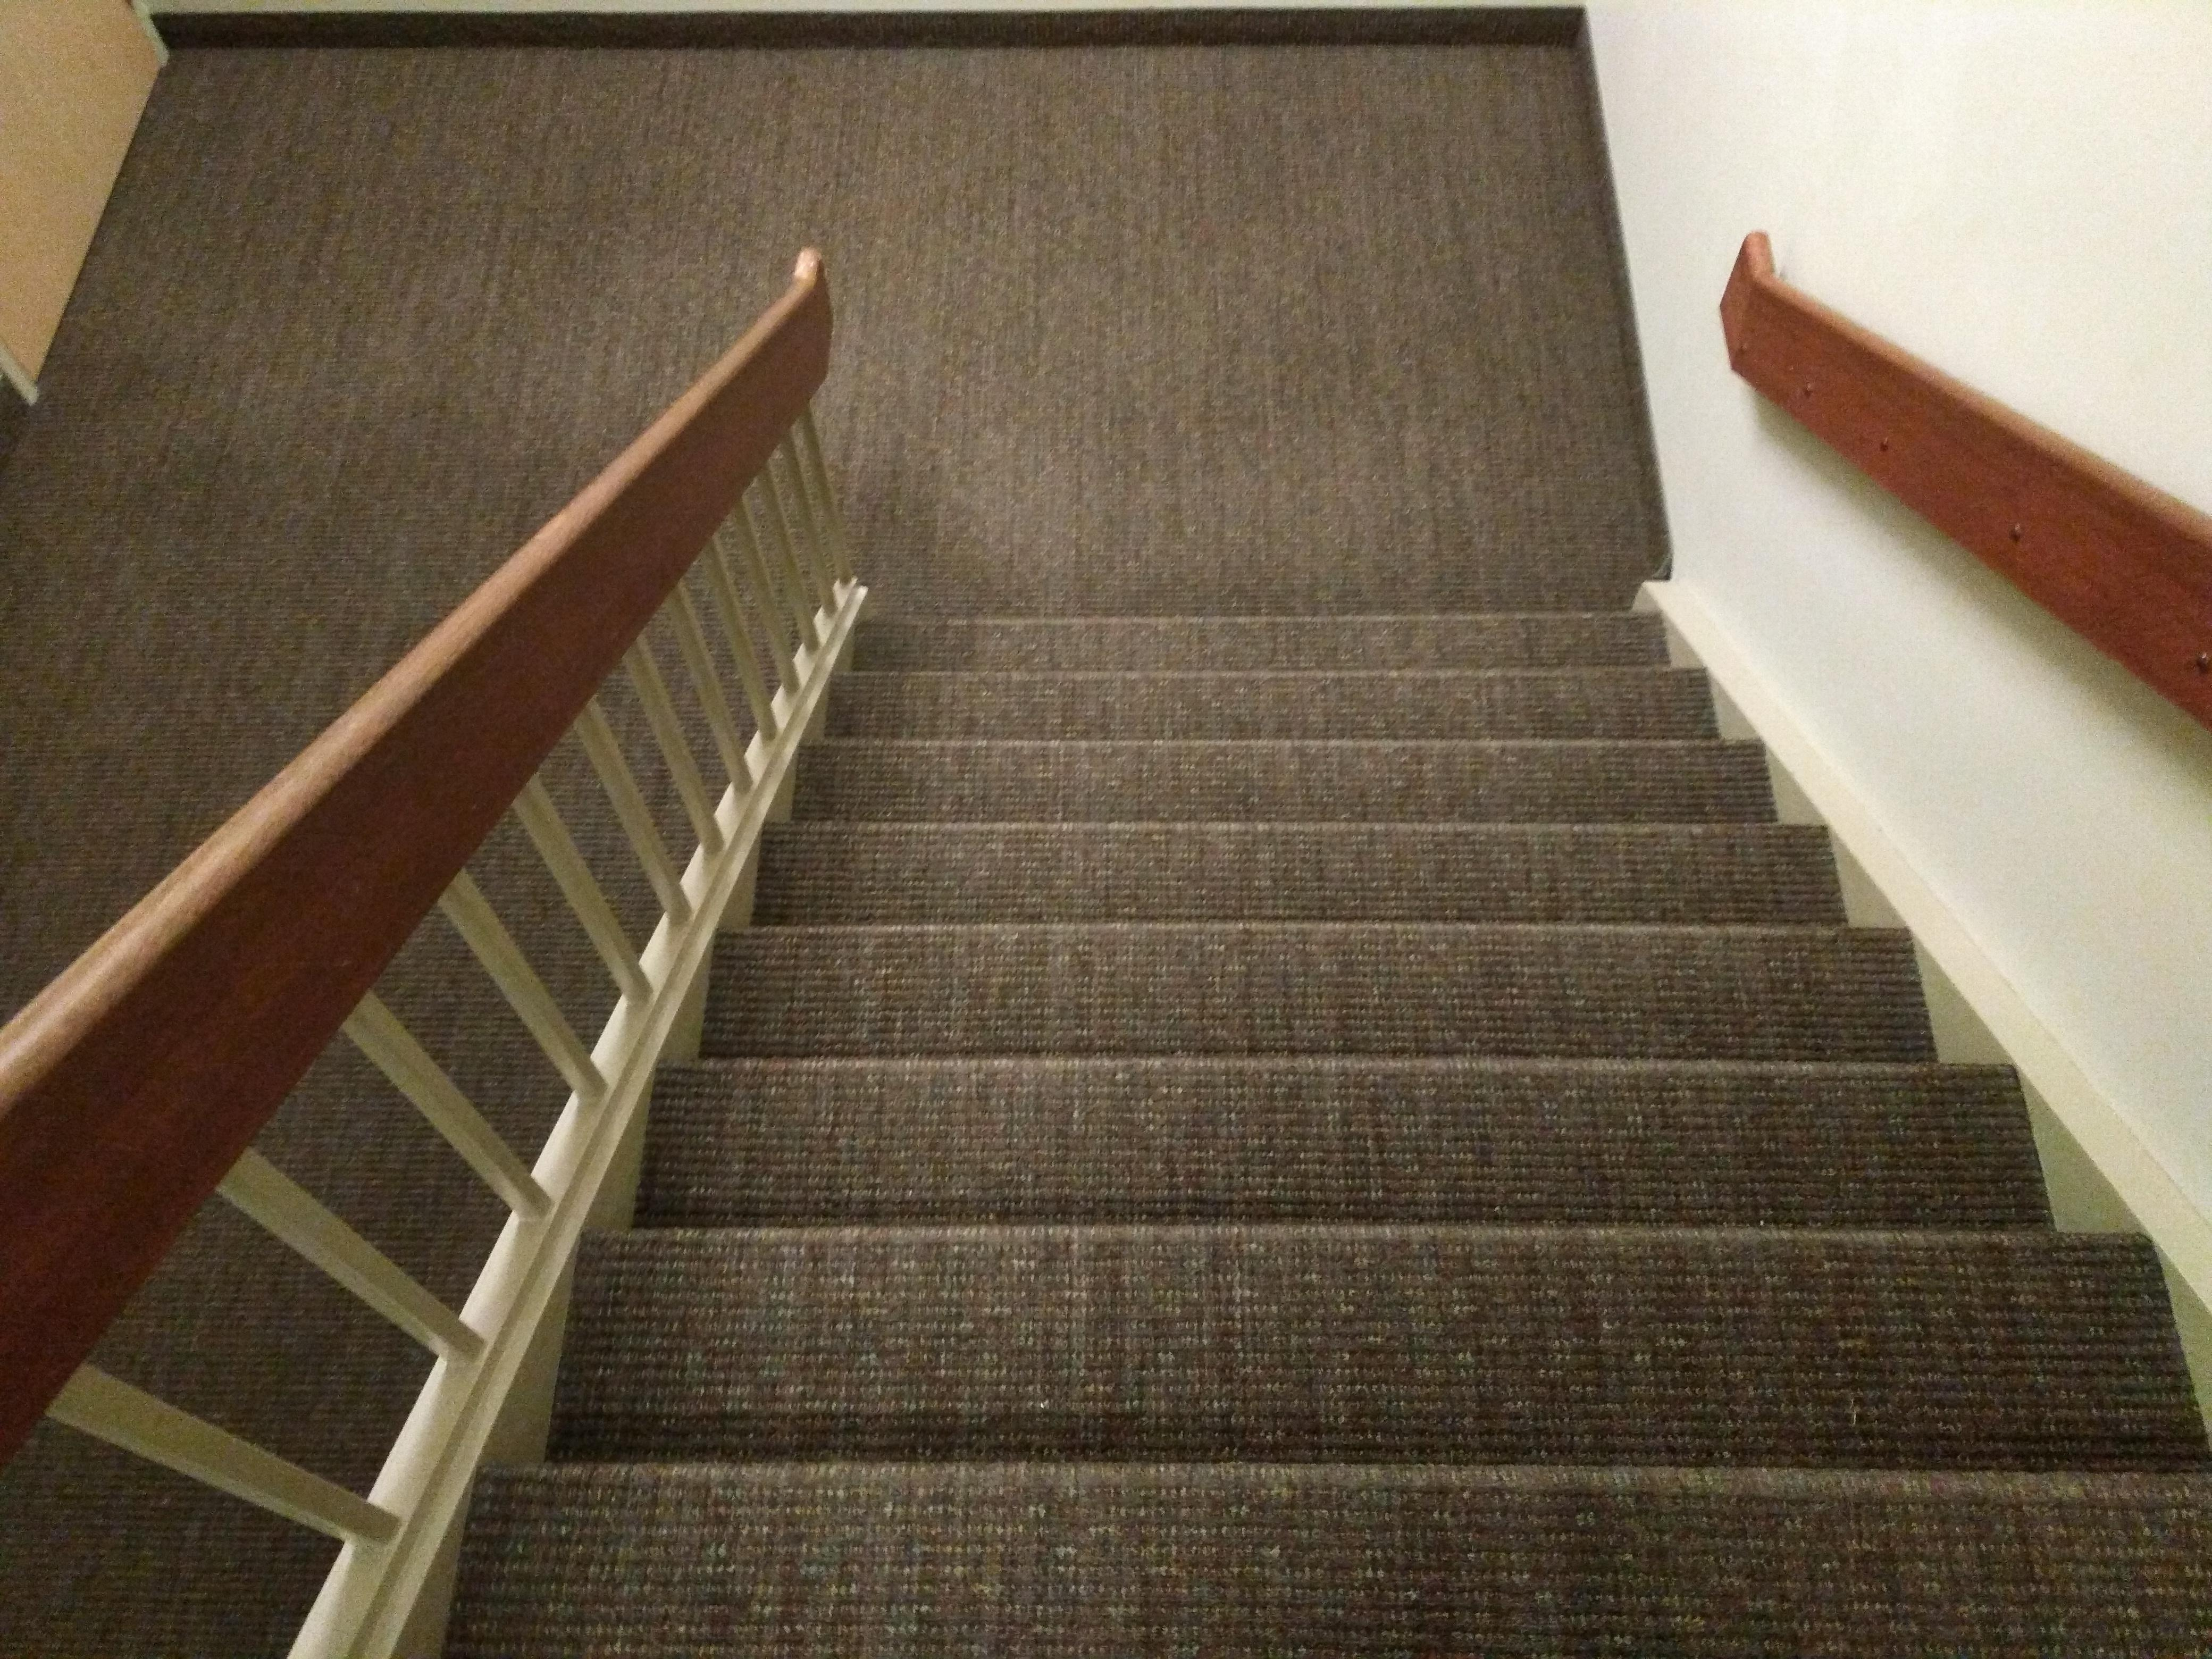stairs_down: (479, 584, 2212, 1558)
